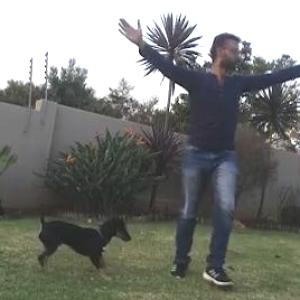takeoff: (138, 0, 299, 292)
